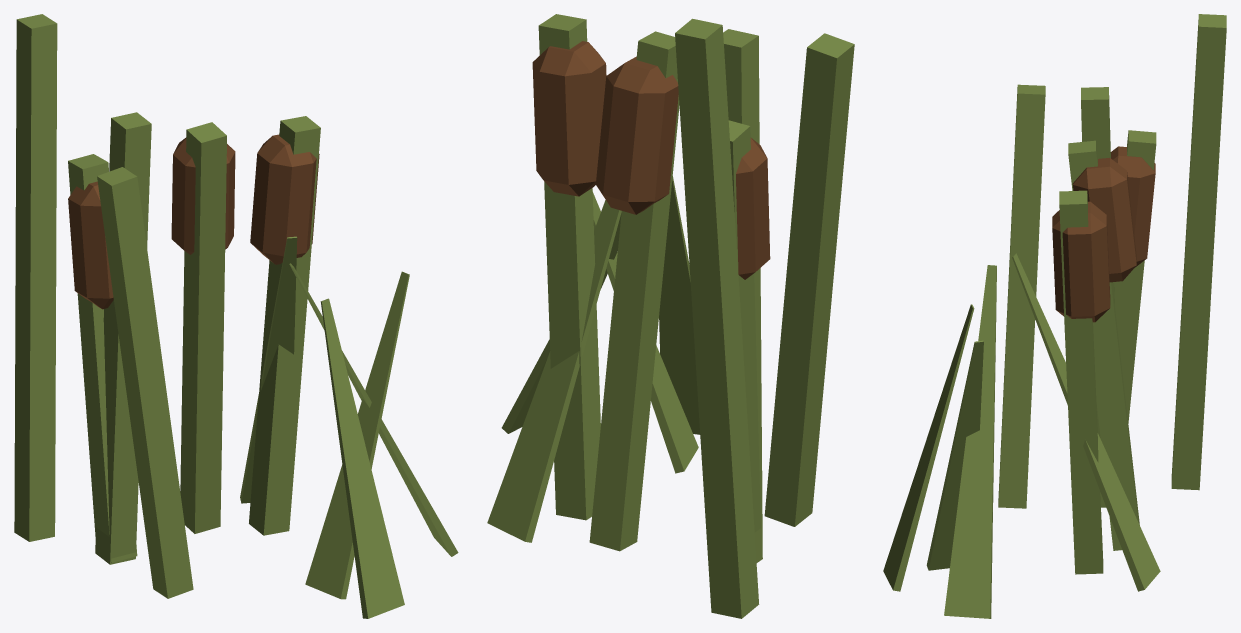
Rendered from Reeds.fbx.
3 renders of one model, left to right at view 1: azimuth 30°, elevation 25°; view 2: azimuth 150°, elevation 25°; view 3: azimuth 270°, elevation 25°, orthographic. The views are drawn at different scales.
Visible parts, largest first — view 1: Reed, Cattail; view 2: Reed, Cattail; view 3: Reed, Cattail.
Boxes of the visible parts, x1,y1,x2,y2 form: Reed: (14, 14, 458, 618); Cattail: (68, 134, 319, 309); Reed: (487, 14, 854, 618); Cattail: (532, 41, 770, 279); Reed: (883, 14, 1226, 618); Cattail: (1052, 146, 1155, 322).
Size of the model in its own units: 2.2 by 3.41 by 2.21.
